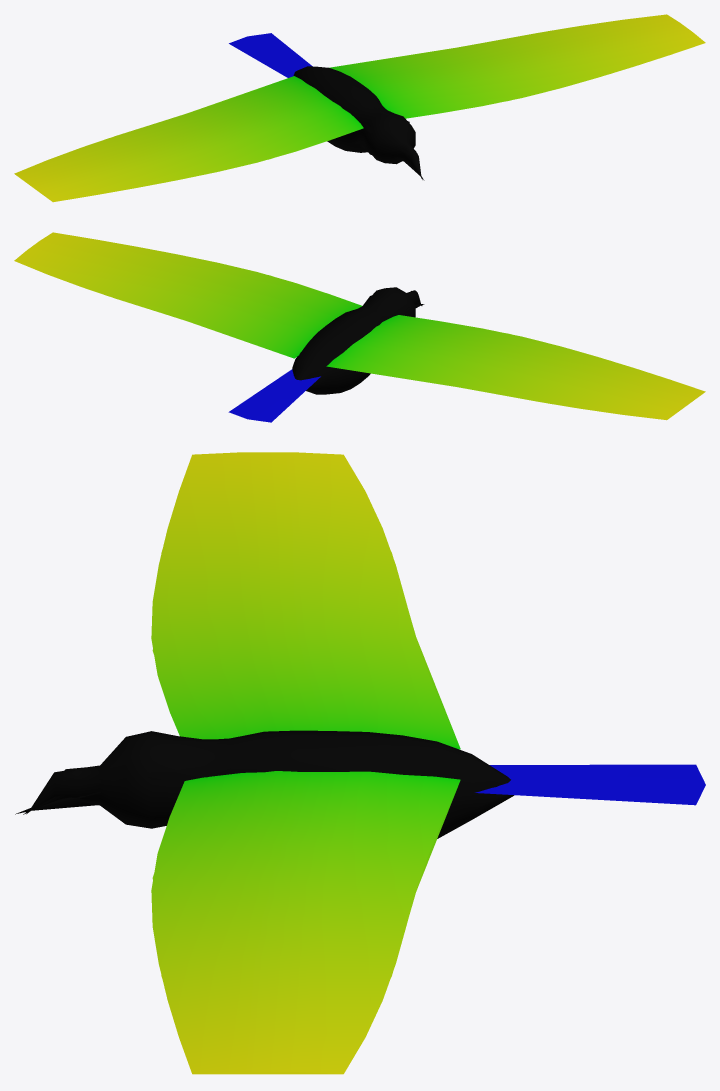
The model's file is roller.glb.
3 renders of one model, top to bottom at view 1: azimuth 30°, elevation 25°; view 2: azimuth 150°, elevation 25°; view 3: azimuth 270°, elevation 25°, orthographic. The views are drawn at different scales.
Parts seen in each view (by area): view 1: fly0, fly1; view 2: fly0, fly1; view 3: fly0, fly1, fly2.
Boxes of the visible parts, bbox=[...] form: fly0: bbox=[14, 14, 705, 202]; fly1: bbox=[16, 35, 507, 199]; fly0: bbox=[14, 232, 705, 422]; fly1: bbox=[242, 275, 702, 419]; fly0: bbox=[26, 452, 705, 1074]; fly1: bbox=[23, 550, 705, 1074]; fly2: bbox=[15, 636, 457, 1074].
Bounding box in the file's own units: 0.66 × 0.0594 × 0.3115.
